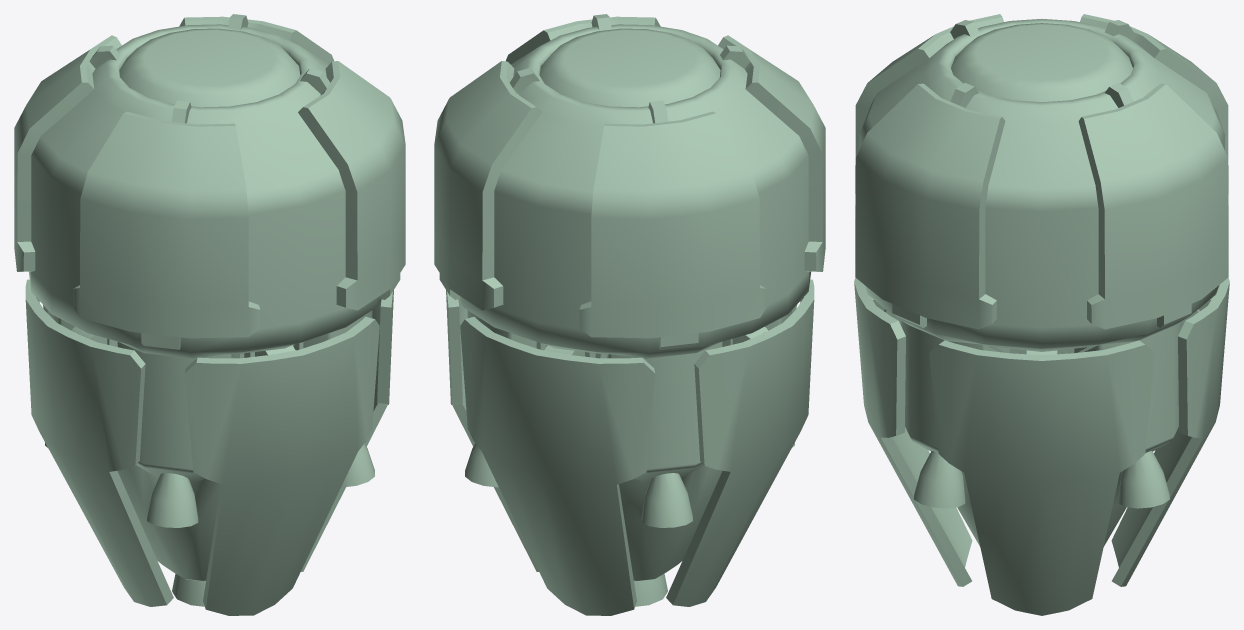
Rendered from REENTRY_CRAFT_static_closed_noholes_mesh.fbx.
3 views of the same model, side by side, from view 1: azimuth 30°, elevation 25°; view 2: azimuth 150°, elevation 25°; view 3: azimuth 270°, elevation 25° (orthographic).
Visible parts, largest first — view 1: EPOD_static_closed_noholes_GEO; view 2: EPOD_static_closed_noholes_GEO; view 3: EPOD_static_closed_noholes_GEO.
Part boxes in pixels (x1=…): EPOD_static_closed_noholes_GEO: x1=14, y1=14, x2=405, y2=615; EPOD_static_closed_noholes_GEO: x1=434, y1=14, x2=825, y2=615; EPOD_static_closed_noholes_GEO: x1=854, y1=14, x2=1229, y2=615.
Bounding box in the file's own units: 5.95 × 9.33 × 5.95.
